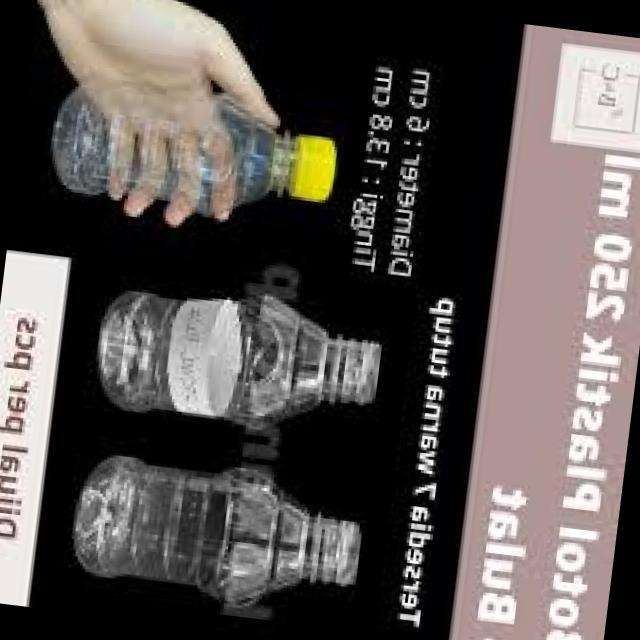good: (102, 262, 419, 444), (42, 52, 360, 230), (76, 444, 384, 615)
